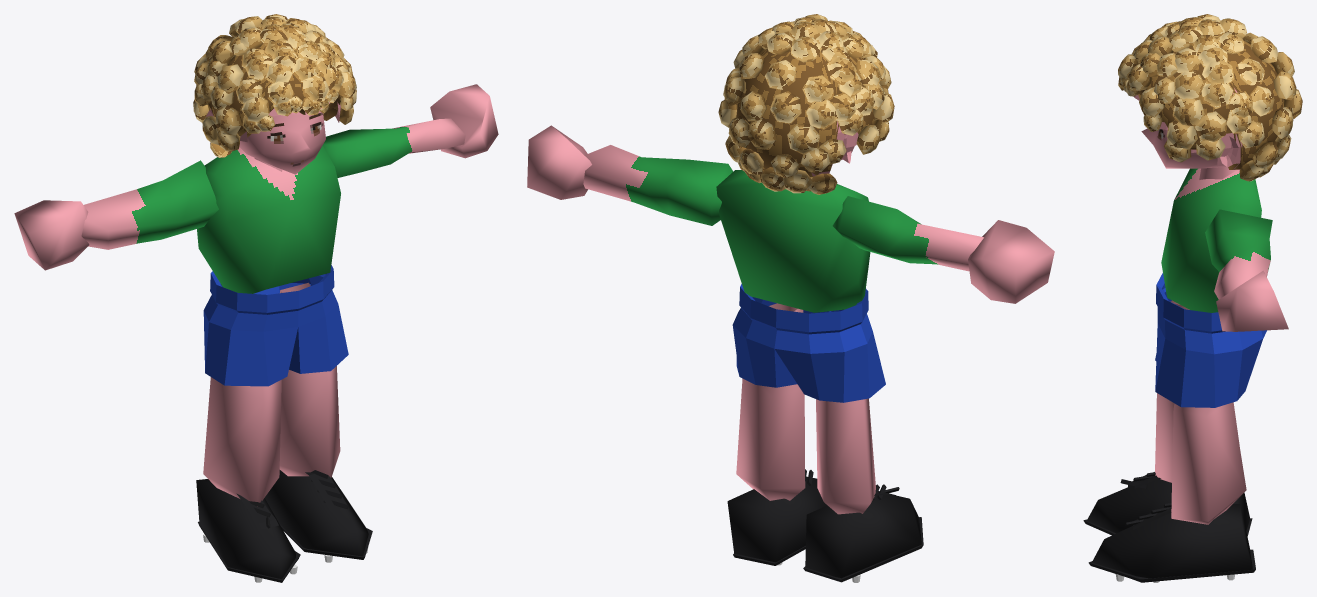
Rendered from 04-cacheado-curto_loiro-natural.glb.
3 renders of one model, left to right at view 1: azimuth 30°, elevation 25°; view 2: azimuth 150°, elevation 25°; view 3: azimuth 270°, elevation 25°, orthographic. The views are drawn at different scales.
Visible parts, largest first — view 1: Camisa_Tronco, Cabelo, Bermuda, Perna.R, Braco.R, Perna.L, Chuteira.R, Chuteira.L, Braco.L, Mao.R, Cabeca, Mao.L (+1 smaller); view 2: Cabelo, Camisa_Tronco, Bermuda, Perna.L, Braco.L, Chuteira.R, Perna.R, Braco.R, Mao.R, Chuteira.L, Mao.L, Chuteira_Sola.R; view 3: Cabelo, Bermuda, Chuteira.L, Camisa_Tronco, Perna.L, Braco.L, Mao.L, Chuteira.R, Perna.R, Cabeca, Chuteira_Sola.L, Couro_Cabeludo (+3 smaller).
Part boxes in pixels (<box>): Camisa_Tronco: <box>197,145,340,293</box>; Cabelo: <box>193,14,356,157</box>; Bermuda: <box>203,265,348,386</box>; Perna.R: <box>203,377,281,506</box>; Braco.R: <box>81,160,218,249</box>; Perna.L: <box>279,282,340,477</box>; Chuteira.R: <box>196,479,298,579</box>; Chuteira.L: <box>264,470,368,556</box>; Braco.L: <box>322,118,465,177</box>; Mao.R: <box>14,200,89,270</box>; Cabeca: <box>239,111,325,174</box>; Mao.L: <box>430,84,498,158</box>; Cabelo: <box>718,14,894,194</box>; Camisa_Tronco: <box>716,170,870,312</box>; Bermuda: <box>732,284,885,402</box>; Perna.L: <box>736,303,805,500</box>; Braco.L: <box>583,145,733,225</box>; Chuteira.R: <box>805,491,921,578</box>; Perna.R: <box>816,398,875,514</box>; Braco.R: <box>832,196,983,271</box>; Mao.R: <box>968,220,1054,303</box>; Chuteira.L: <box>727,476,826,562</box>; Mao.L: <box>527,125,591,199</box>; Chuteira_Sola.R: <box>803,517,923,582</box>; Cabelo: <box>1118,14,1302,181</box>; Bermuda: <box>1155,273,1266,407</box>; Chuteira.L: <box>1092,504,1252,582</box>; Camisa_Tronco: <box>1161,168,1261,312</box>; Perna.L: <box>1171,402,1246,524</box>; Braco.L: <box>1205,209,1272,299</box>; Mao.L: <box>1216,270,1288,331</box>; Chuteira.R: <box>1087,475,1249,533</box>; Perna.R: <box>1155,300,1239,482</box>; Cabeca: <box>1141,128,1228,168</box>; Chuteira_Sola.L: <box>1088,549,1255,582</box>; Couro_Cabeludo: <box>1133,88,1242,169</box>.
Size of the model in its own units: 0.4523 by 0.4644 by 0.1726.
Materials: 3 (3 with a texture image).
